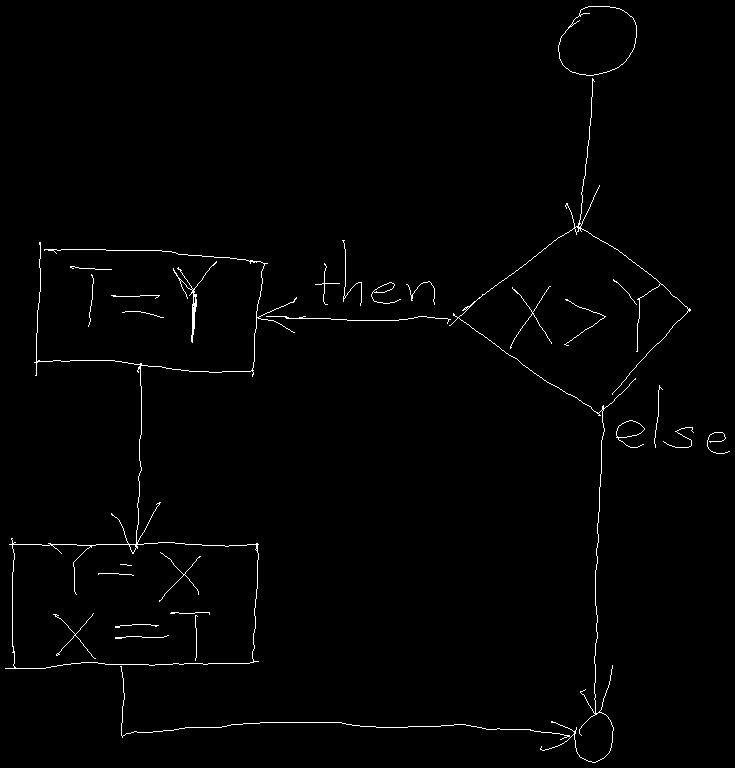arrow: (120, 666, 575, 750), (580, 405, 612, 714), (111, 363, 160, 553), (256, 297, 450, 332), (565, 78, 599, 234)
connection: (558, 6, 636, 75)
decision: (449, 223, 690, 415), (574, 712, 613, 762)
process: (5, 538, 258, 668), (34, 242, 267, 376)
text: (48, 543, 209, 660), (70, 261, 216, 342), (510, 279, 659, 351), (315, 240, 434, 305), (616, 385, 729, 453)
